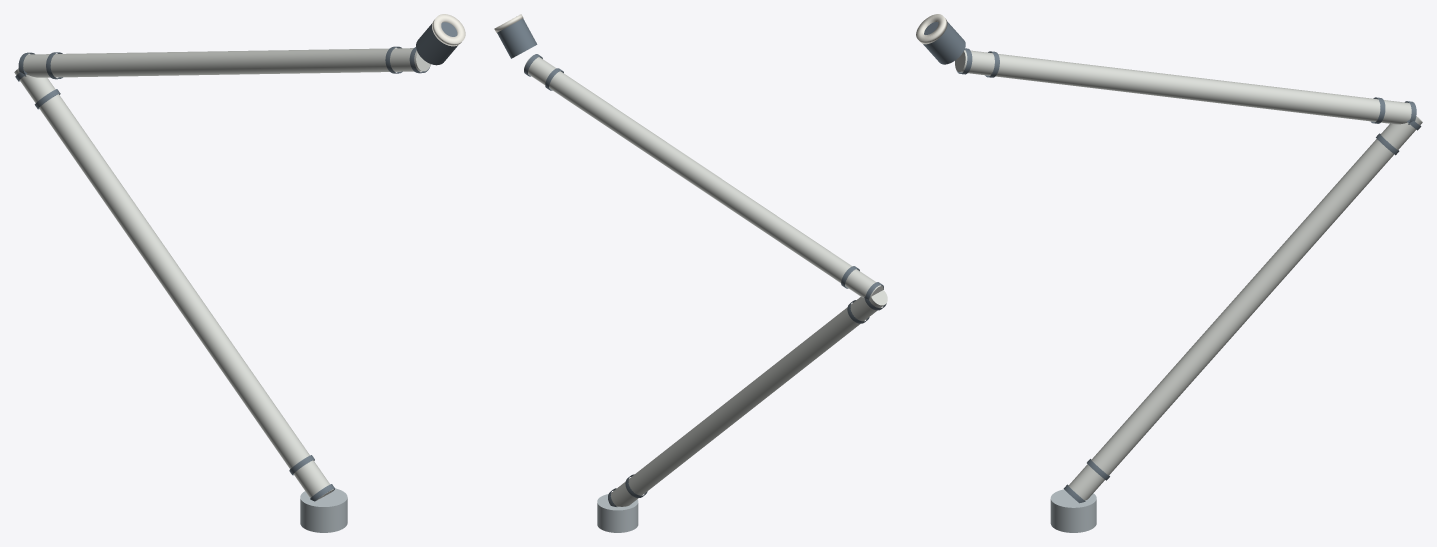
The model's file is iss_canadarm2.glb.
3 views of the same model, side by side, from view 1: azimuth 30°, elevation 25°; view 2: azimuth 210°, elevation 25°; view 3: azimuth 270°, elevation 25° (orthographic). The views are drawn at different scales.
Visible parts, largest first — view 1: iss_canadarm2.base_roll.shoulder_pitch.mesh_Pale_thermal_bla, iss_canadarm2.base_roll.shoulder_pitch.elbow_pitch.mesh_Pale, iss_canadarm2.base_roll.mesh_Satin_aluminum, iss_canadarm2.base_roll.shoulder_pitch.elbow_pitch.wrist_pit (×2), iss_canadarm2.base_roll.shoulder_pitch.elbow_pitch.mesh_Mach, iss_canadarm2.base_roll.shoulder_pitch.mesh_Machined_steel; view 2: iss_canadarm2.base_roll.shoulder_pitch.elbow_pitch.mesh_Pale, iss_canadarm2.base_roll.shoulder_pitch.mesh_Pale_thermal_bla, iss_canadarm2.base_roll.mesh_Satin_aluminum, iss_canadarm2.base_roll.shoulder_pitch.elbow_pitch.wrist_pit, iss_canadarm2.base_roll.shoulder_pitch.elbow_pitch.mesh_Mach; view 3: iss_canadarm2.base_roll.shoulder_pitch.mesh_Pale_thermal_bla, iss_canadarm2.base_roll.shoulder_pitch.elbow_pitch.mesh_Pale, iss_canadarm2.base_roll.mesh_Satin_aluminum, iss_canadarm2.base_roll.shoulder_pitch.elbow_pitch.wrist_pit (×2), iss_canadarm2.base_roll.shoulder_pitch.elbow_pitch.mesh_Mach.
Part boxes in pixels (box(x1,y1,x2,y2)): iss_canadarm2.base_roll.shoulder_pitch.mesh_Pale_thermal_bla: box(14, 68, 333, 500); iss_canadarm2.base_roll.shoulder_pitch.elbow_pitch.mesh_Pale: box(23, 48, 430, 77); iss_canadarm2.base_roll.mesh_Satin_aluminum: box(300, 488, 347, 532); iss_canadarm2.base_roll.shoulder_pitch.elbow_pitch.wrist_pit (×2): box(416, 14, 465, 65); iss_canadarm2.base_roll.shoulder_pitch.elbow_pitch.mesh_Mach: box(18, 46, 430, 79); iss_canadarm2.base_roll.shoulder_pitch.mesh_Machined_steel: box(15, 70, 335, 501); iss_canadarm2.base_roll.shoulder_pitch.elbow_pitch.mesh_Pale: box(524, 56, 883, 298); iss_canadarm2.base_roll.shoulder_pitch.mesh_Pale_thermal_bla: box(611, 290, 887, 506); iss_canadarm2.base_roll.mesh_Satin_aluminum: box(597, 494, 638, 532); iss_canadarm2.base_roll.shoulder_pitch.elbow_pitch.wrist_pit: box(497, 18, 537, 58); iss_canadarm2.base_roll.shoulder_pitch.elbow_pitch.mesh_Mach: box(524, 54, 883, 299); iss_canadarm2.base_roll.shoulder_pitch.mesh_Pale_thermal_bla: box(1068, 116, 1422, 500); iss_canadarm2.base_roll.shoulder_pitch.elbow_pitch.mesh_Pale: box(955, 50, 1411, 124); iss_canadarm2.base_roll.mesh_Satin_aluminum: box(1050, 489, 1096, 532); iss_canadarm2.base_roll.shoulder_pitch.elbow_pitch.wrist_pit (×2): box(916, 14, 965, 64); iss_canadarm2.base_roll.shoulder_pitch.elbow_pitch.mesh_Mach: box(957, 48, 1416, 124).
Size of the model in its own units: 3.36 by 8.64 by 7.49.
